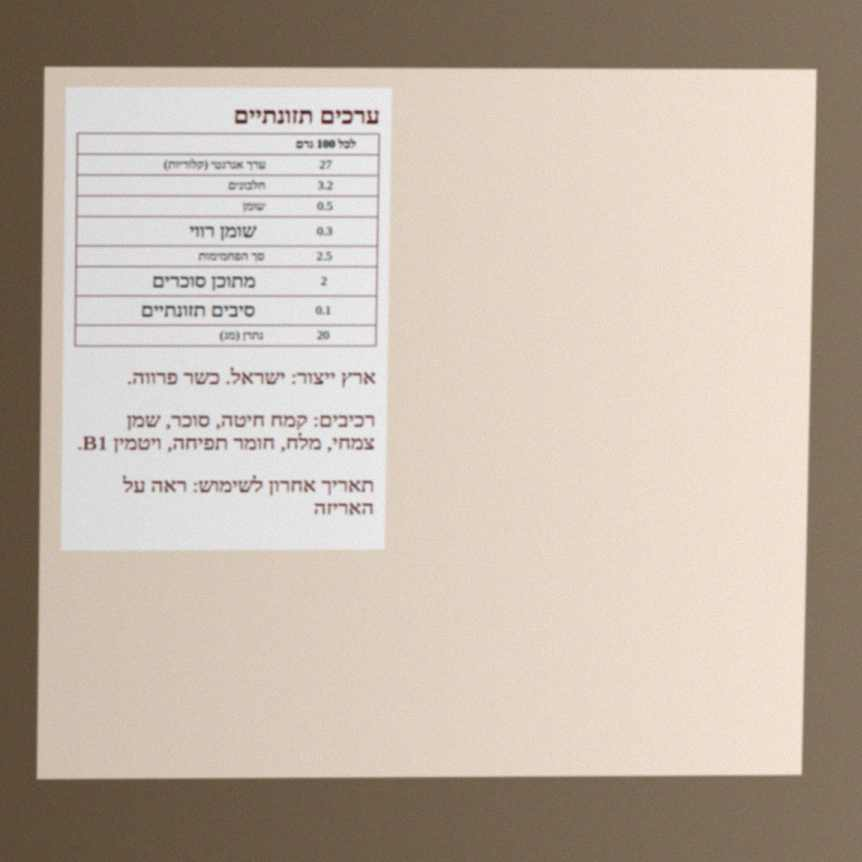carbs: (315, 249, 333, 264)
energy: (318, 157, 333, 172)
fat: (316, 199, 334, 214)
protein: (316, 178, 335, 193)
